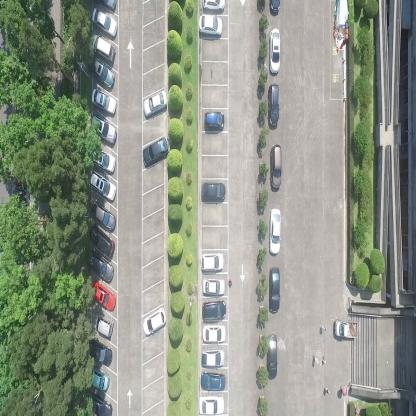car: (85, 52, 115, 89), (87, 224, 115, 259), (89, 197, 116, 233), (84, 249, 115, 280), (142, 135, 170, 168), (89, 112, 117, 145), (89, 168, 117, 201), (89, 278, 116, 312), (142, 305, 167, 339), (91, 7, 118, 38), (89, 33, 116, 63), (142, 88, 168, 119), (89, 86, 116, 115), (89, 145, 116, 173), (88, 337, 113, 367), (269, 142, 282, 191), (265, 332, 278, 381), (198, 13, 223, 38), (269, 205, 281, 257), (268, 266, 281, 314), (198, 394, 226, 416), (200, 370, 226, 393), (87, 392, 113, 415), (269, 27, 281, 76), (268, 81, 280, 129), (87, 367, 110, 391), (201, 181, 226, 203), (200, 346, 225, 368), (334, 317, 358, 339), (202, 300, 226, 322), (92, 314, 114, 338), (202, 276, 226, 297), (200, 252, 225, 272), (201, 324, 226, 344), (204, 110, 225, 132), (201, 0, 225, 12), (268, 0, 282, 15)
